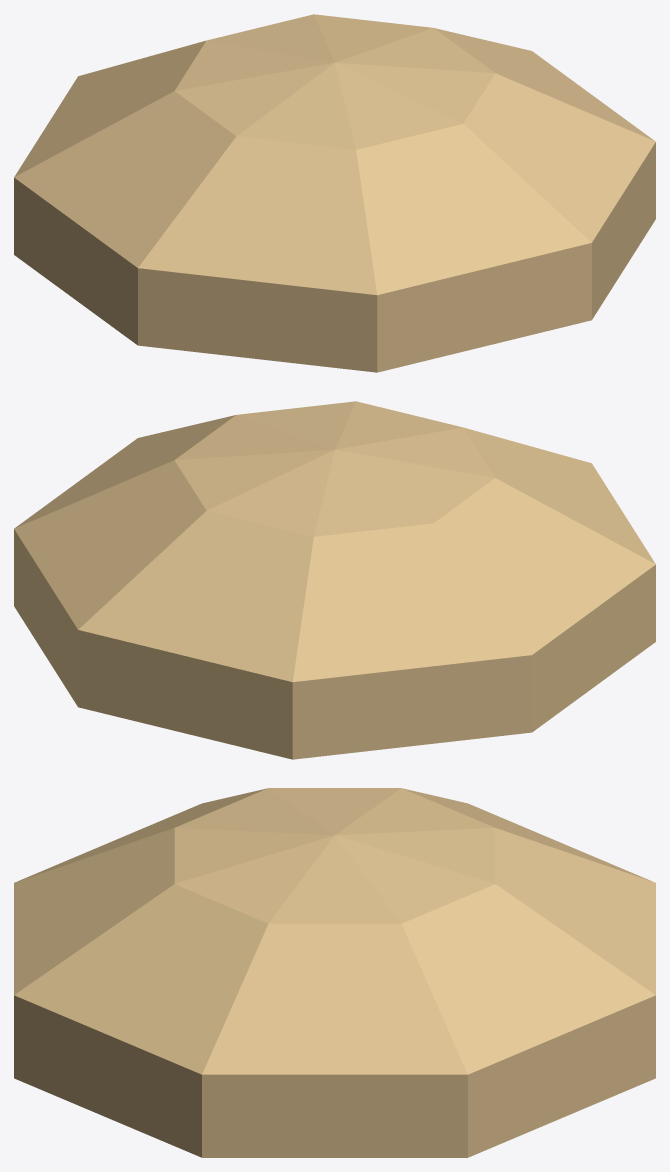
Rendered from burger_bun_top.gltf.
3 views of the same model, one above another, from view 1: azimuth 30°, elevation 25°; view 2: azimuth 150°, elevation 25°; view 3: azimuth 270°, elevation 25° (orthographic). The views are drawn at different scales.
Parts seen in each view (by area): view 1: cylinder; view 2: cylinder; view 3: cylinder.
Part boxes in pixels (<box>): cylinder: <box>14,14,655,372</box>; cylinder: <box>14,401,655,759</box>; cylinder: <box>14,788,655,1157</box>.
Size of the model in its own units: 0.4375 by 0.1406 by 0.4375.
Materials: 1 (1 with a texture image).
